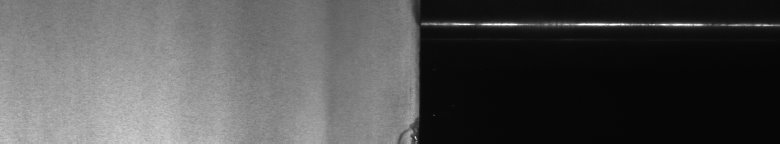hb: (396, 124, 408, 136)
